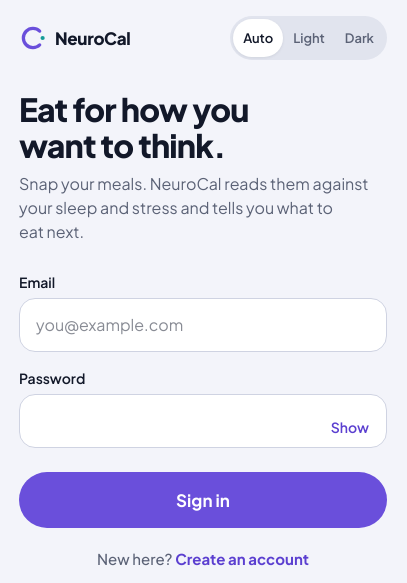
Test: Account › asks an unverified account for its code when signing in
This screenshot has width=407, height=583.
Type "sam@example.com" into the field labelled "Email" at (203, 325), box x1=19 y1=298 x2=387 y2=352
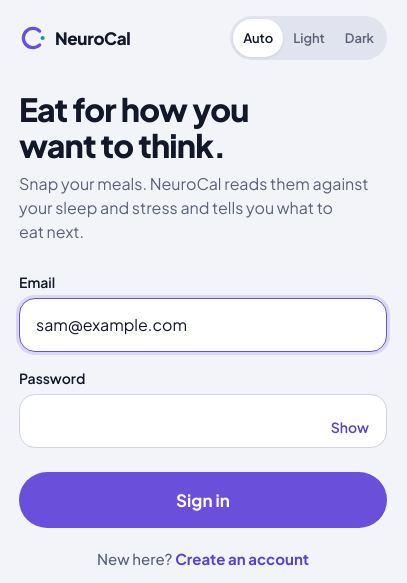
Type "correct-horse" into the password field labelled "Password" at (203, 421), box x1=19 y1=394 x2=387 y2=448
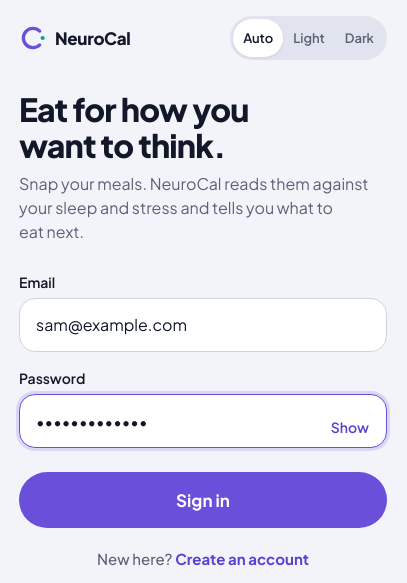
Click the button "Sign in" at (203, 500), box x1=19 y1=472 x2=387 y2=528
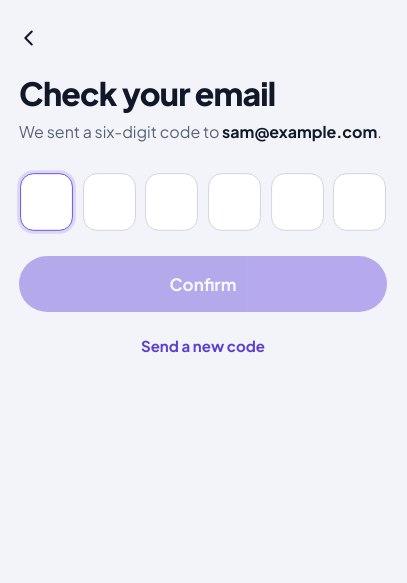
Expected: the heading "Check your email" is shown, x1=19 y1=73 x2=275 y2=113
